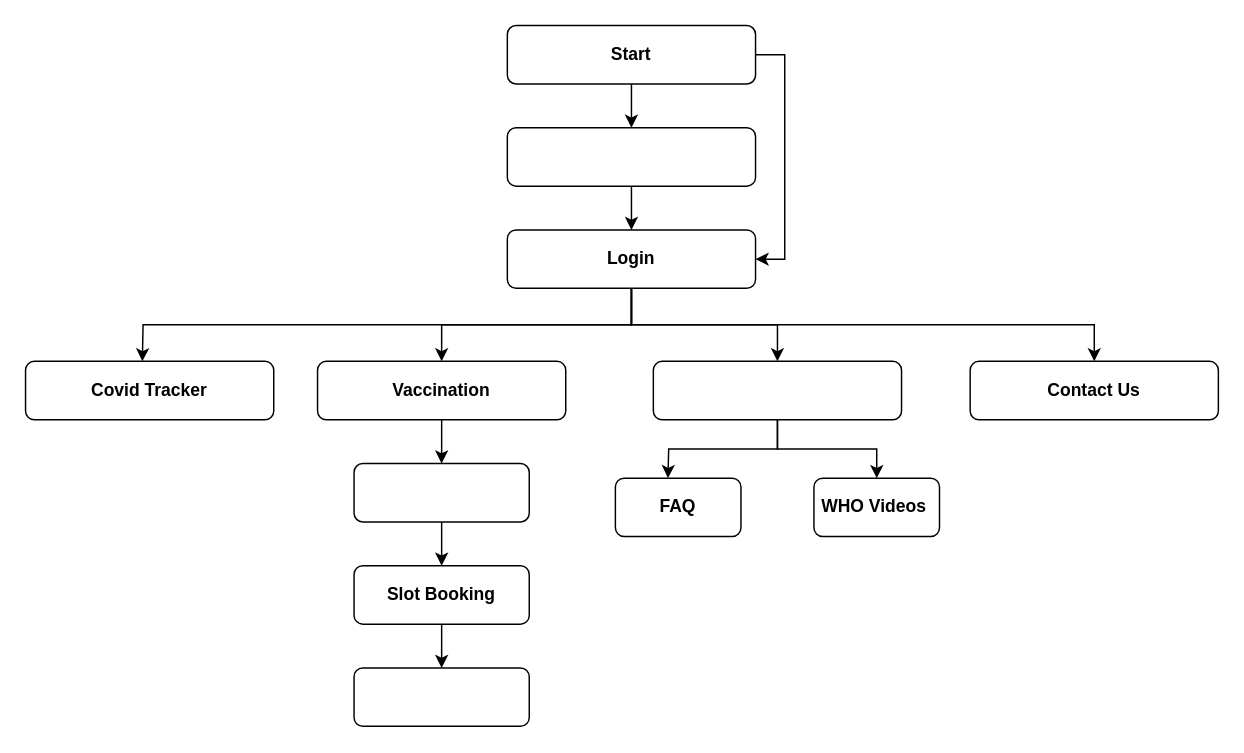
The diagram is 1244 pixels wide and 753 high, and some of its shapes have lost their labels. The centre of each missing label's shape, as x and y in pixels:
Download Vaccination Certificate: the point at 441,696
Informative Videos: the point at 777,390
Register: the point at 631,156
Vaccination Centre: the point at 441,492
